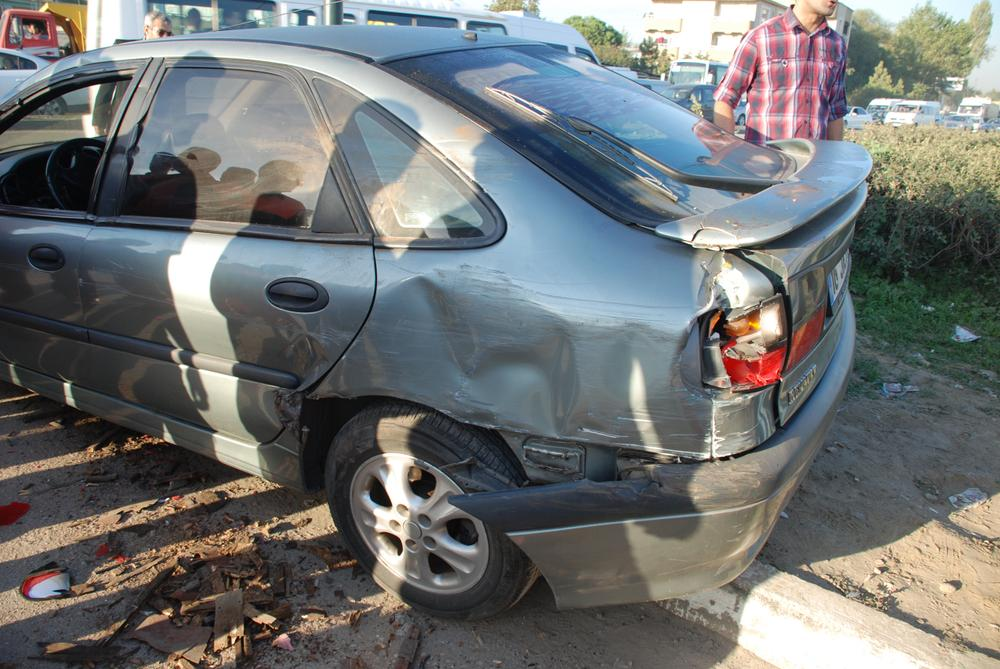dent: (375, 276, 577, 435), (273, 334, 329, 424), (700, 252, 746, 305)
lamp broken: (704, 305, 785, 388)
scratch: (424, 267, 754, 457), (513, 459, 771, 513), (440, 138, 520, 194)
